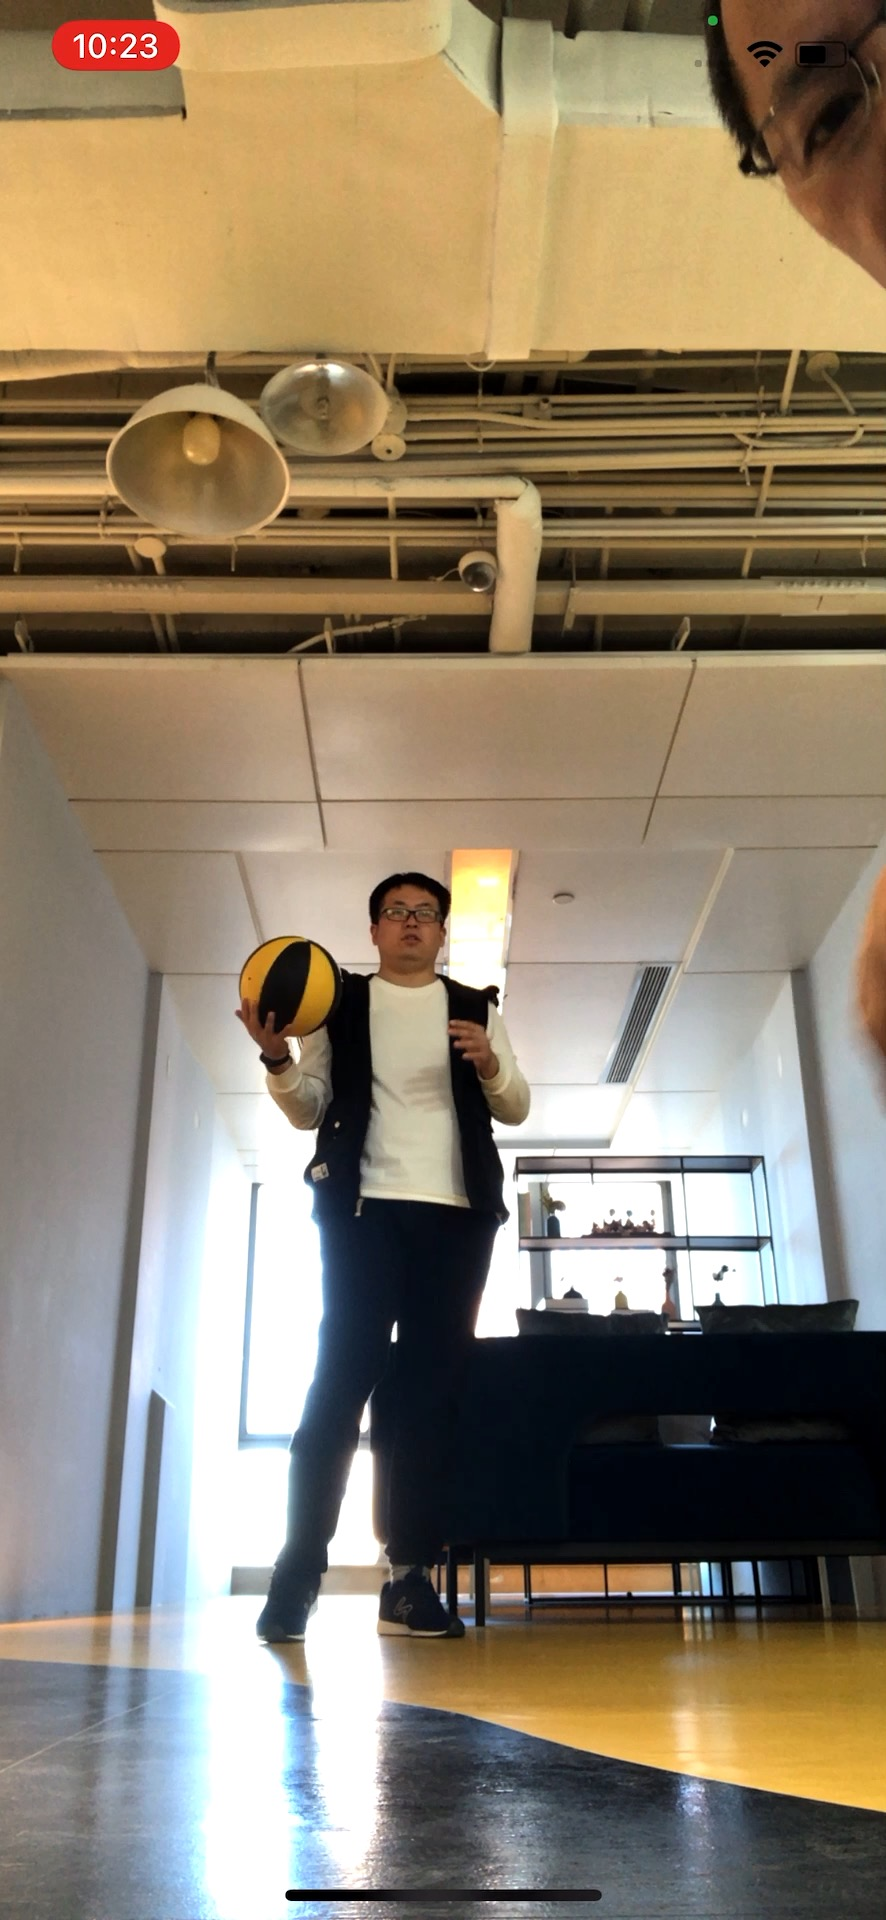ball: (239, 933, 341, 1037)
